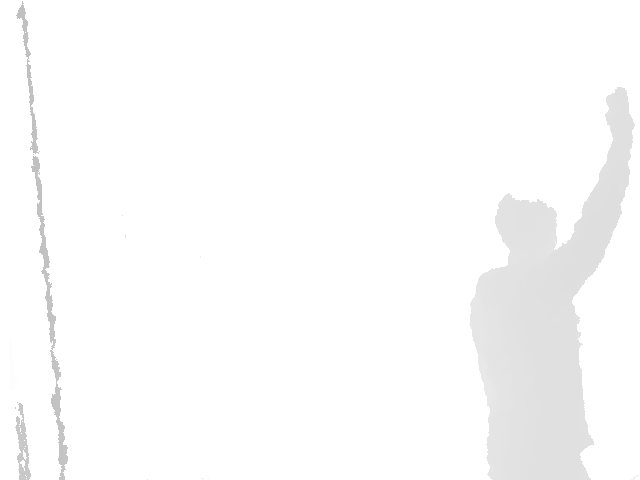hand: (604, 87, 636, 139)
head: (494, 192, 558, 257)
person: (469, 87, 635, 480)
